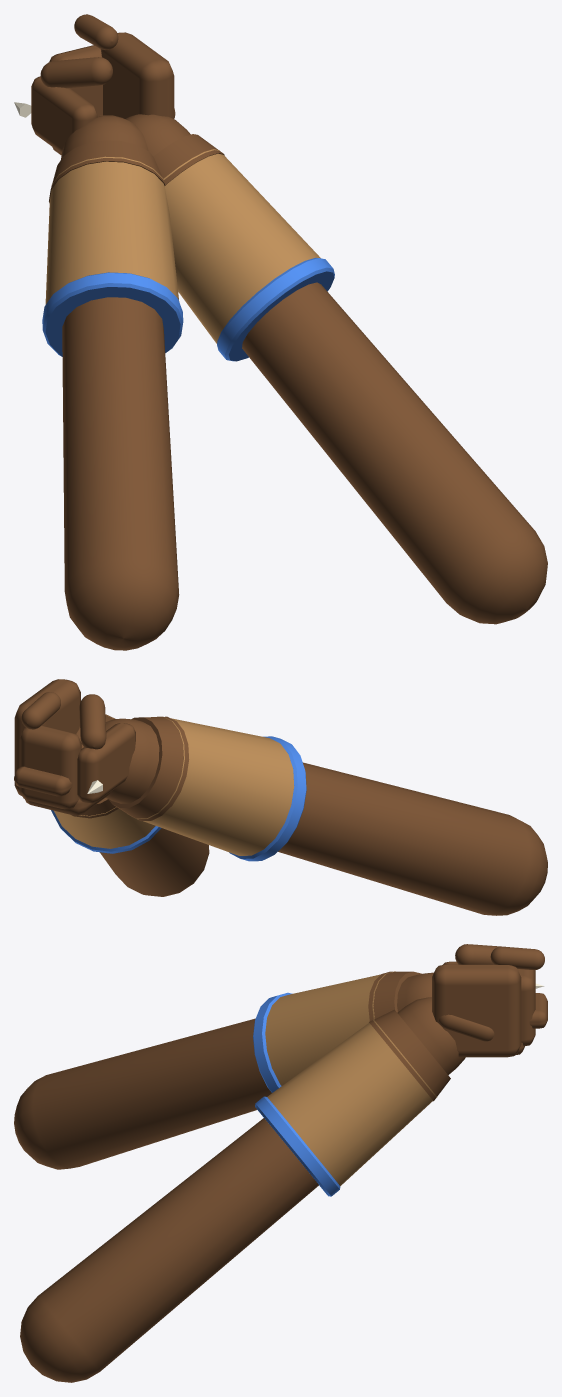
File: cardboard.glb
3 renders of one model, top to bottom at view 1: azimuth 30°, elevation 25°; view 2: azimuth 150°, elevation 25°; view 3: azimuth 270°, elevation 25°, orthographic. The views are drawn at different scales.
Parts seen in each view (by area): view 1: forearm_R, forearm_L, bracer_R, bracer_L, palm_R, bracer_trim_L, bracer_trim_R, fingers_L, cuff_L, thumb_R, cuff_R, trigger_finger_R (+1 smaller); view 2: forearm_L, bracer_L, forearm_R, cuff_L, fingers_R, fingers_L, bracer_R, palm_R, bracer_trim_L, thumb_R, knuckles_R, trigger_finger_R (+3 smaller); view 3: forearm_R, forearm_L, bracer_R, bracer_L, palm_R, cuff_R, bracer_trim_R, cuff_L, bracer_trim_L, fingers_R, trigger_finger_R, thumb_L (+1 smaller).
Part boxes in pixels (x1=…): forearm_R: x1=125, y1=114, x2=547, y2=624; forearm_L: x1=61, y1=115, x2=179, y2=650; bracer_R: x1=163, y1=149, x2=320, y2=343; bracer_L: x1=45, y1=156, x2=179, y2=304; palm_R: x1=100, y1=32, x2=174, y2=118; bracer_trim_L: x1=42, y1=272, x2=183, y2=356; bracer_trim_R: x1=217, y1=257, x2=334, y2=361; fingers_L: x1=31, y1=76, x2=97, y2=153; cuff_L: x1=49, y1=140, x2=165, y2=202; thumb_R: x1=40, y1=57, x2=112, y2=88; cuff_R: x1=153, y1=134, x2=224, y2=185; trigger_finger_R: x1=74, y1=14, x2=118, y2=49; forearm_L: x1=105, y1=718, x2=547, y2=915; bracer_L: x1=127, y1=716, x2=294, y2=855; forearm_R: x1=76, y1=727, x2=209, y2=896; cuff_L: x1=108, y1=716, x2=189, y2=821; fingers_R: x1=19, y1=725, x2=81, y2=809; fingers_L: x1=77, y1=723, x2=135, y2=803; bracer_R: x1=54, y1=715, x2=155, y2=848; palm_R: x1=14, y1=679, x2=80, y2=796; bracer_trim_L: x1=229, y1=736, x2=306, y2=861; thumb_R: x1=79, y1=694, x2=106, y2=749; knuckles_R: x1=14, y1=766, x2=72, y2=796; trigger_finger_R: x1=21, y1=692, x2=60, y2=729; forearm_R: x1=20, y1=997, x2=465, y2=1382; forearm_L: x1=14, y1=972, x2=433, y2=1169; bracer_R: x1=267, y1=1019, x2=436, y2=1186; bracer_L: x1=265, y1=971, x2=395, y2=1085; palm_R: x1=432, y1=964, x2=521, y2=1057; cuff_R: x1=369, y1=1009, x2=450, y2=1101; bracer_trim_R: x1=255, y1=1096, x2=340, y2=1196; cuff_L: x1=368, y1=971, x2=421, y2=1021; bracer_trim_L: x1=253, y1=992, x2=292, y2=1092; fingers_R: x1=517, y1=969, x2=535, y2=1046; trigger_finger_R: x1=490, y1=946, x2=544, y2=970; thumb_L: x1=439, y1=1014, x2=494, y2=1041.
Bounding box in the file's own units: 0.4161 × 0.3715 × 0.4788.
